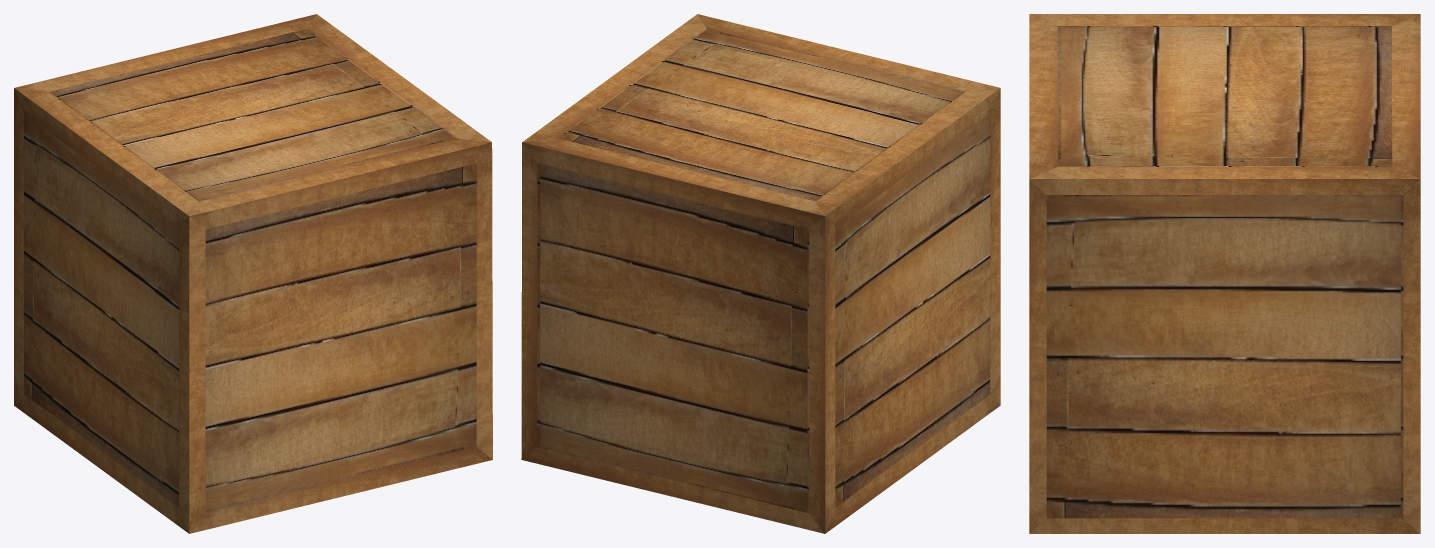
The model's file is Crate.obj.
3 renders of one model, left to right at view 1: azimuth 30°, elevation 25°; view 2: azimuth 150°, elevation 25°; view 3: azimuth 270°, elevation 25°, orthographic. The views are drawn at different scales.
Parts seen in each view (by area): view 1: Cube; view 2: Cube; view 3: Cube.
Boxes of the visible parts, left/top/right/bottom form: Cube: left=14, top=14, right=492, bottom=533; Cube: left=521, top=14, right=1000, bottom=533; Cube: left=1029, top=14, right=1420, bottom=533.
Bounding box in the file's own units: 2 × 2 × 2.
